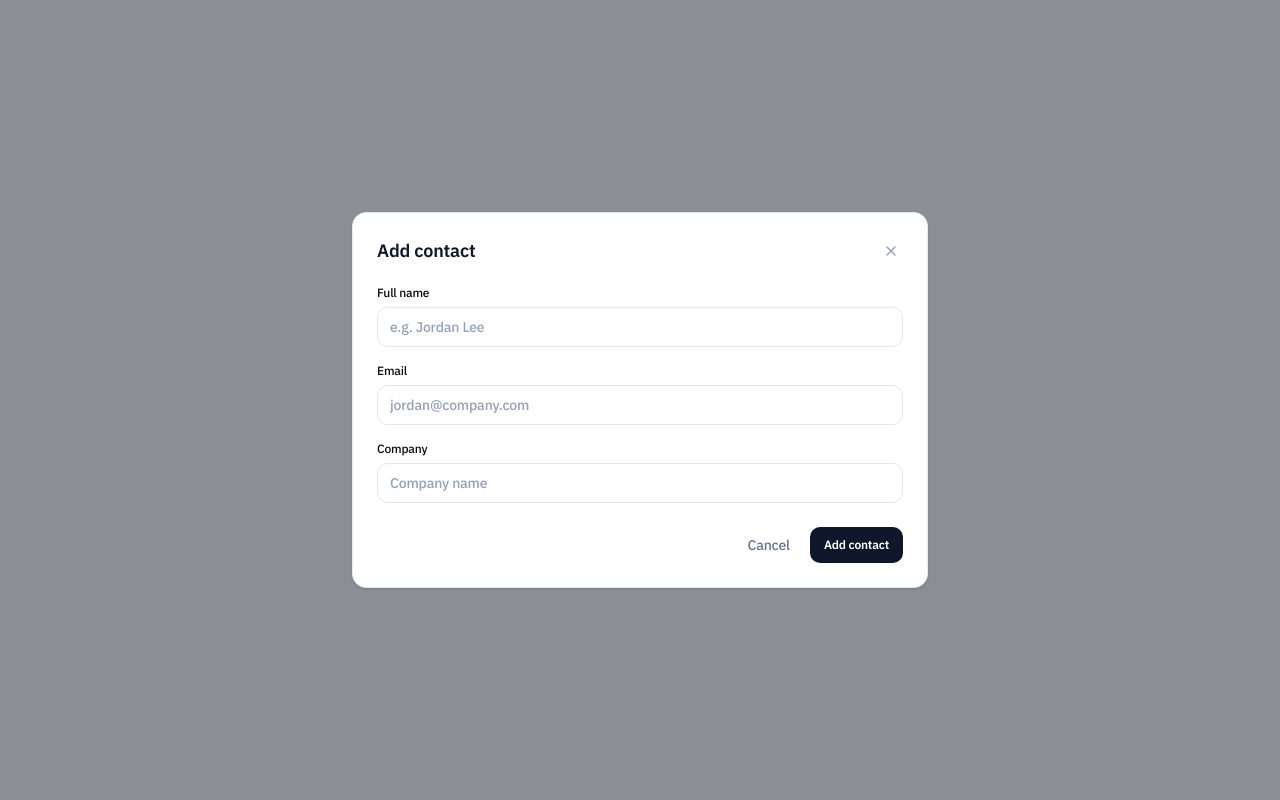
Test: ContactDialog › shows validation errors for empty required fields
Click the button "Add contact" at (856, 545), box [810,527,903,563]
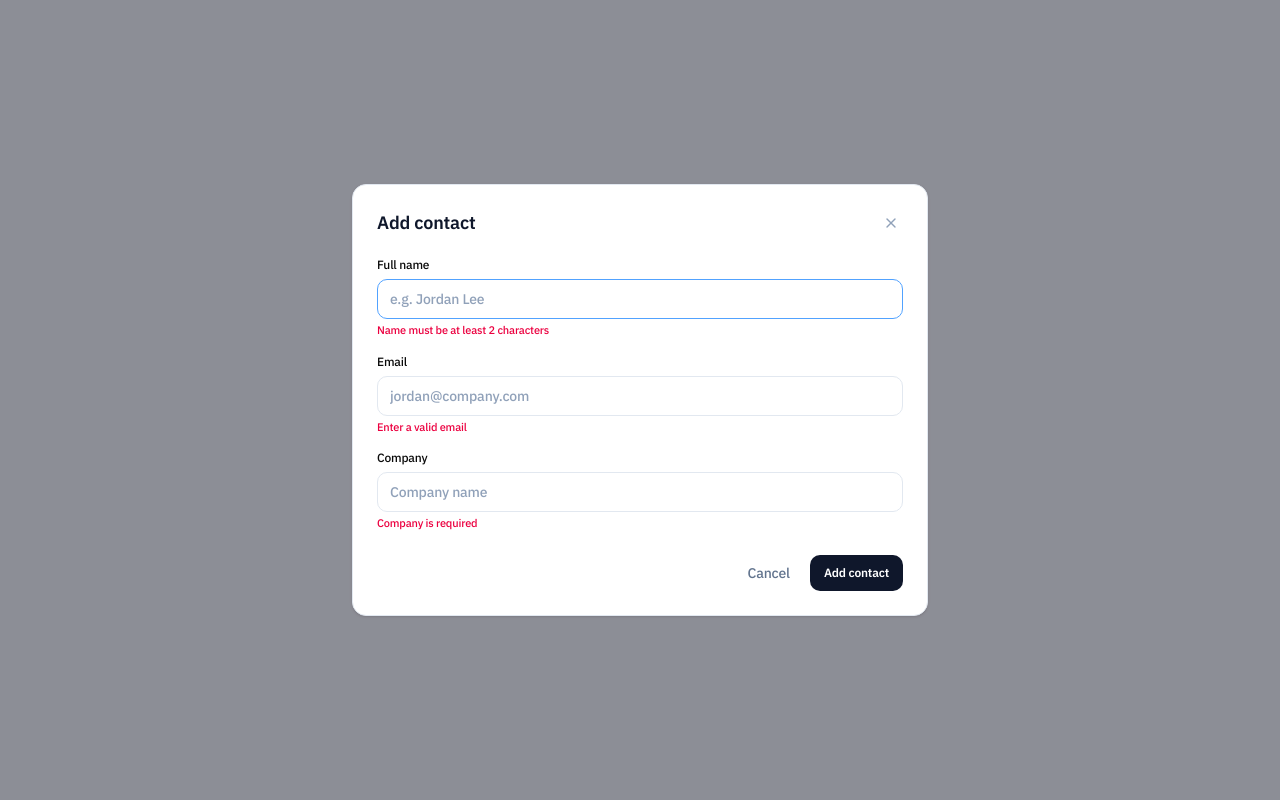
Expected: the text "Name must be at least 2 characters" is shown, [377,323,549,337]
Expected: the text "Enter a valid email" is shown, [377,420,467,434]
